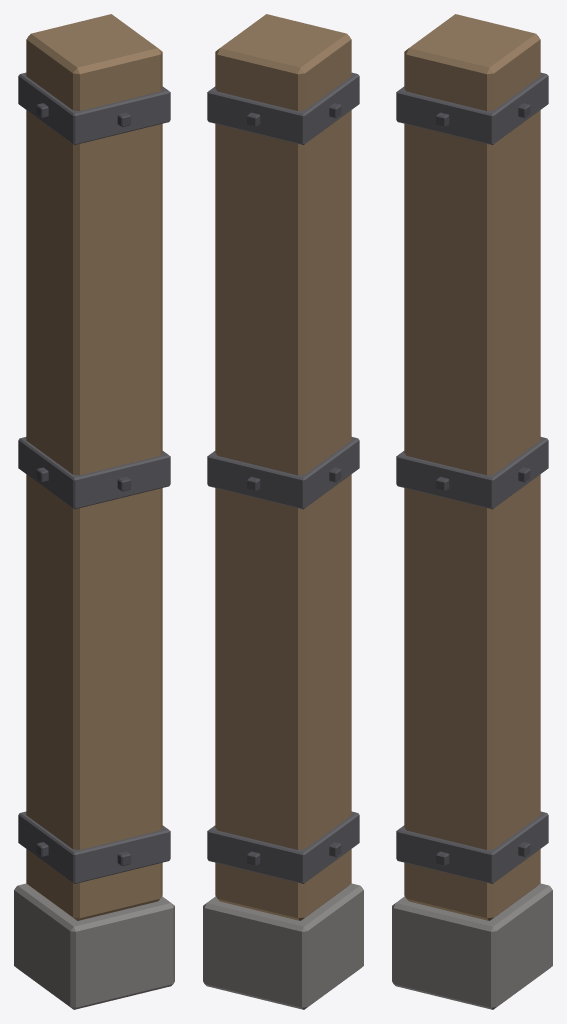
File: pillar_wood.glb
The picture shows the model from 3 angles, left to right: view 1: azimuth 30°, elevation 25°; view 2: azimuth 150°, elevation 25°; view 3: azimuth 330°, elevation 25°; orthographic projection.
Visible parts, largest first — view 1: PillarWood; view 2: PillarWood; view 3: PillarWood.
Boxes of the visible parts, x1,y1,x2,y2 form: PillarWood: (14, 14, 174, 1009); PillarWood: (203, 14, 363, 1009); PillarWood: (392, 14, 552, 1009).
Bounding box in the file's own units: 0.224 × 1.8 × 0.224.
